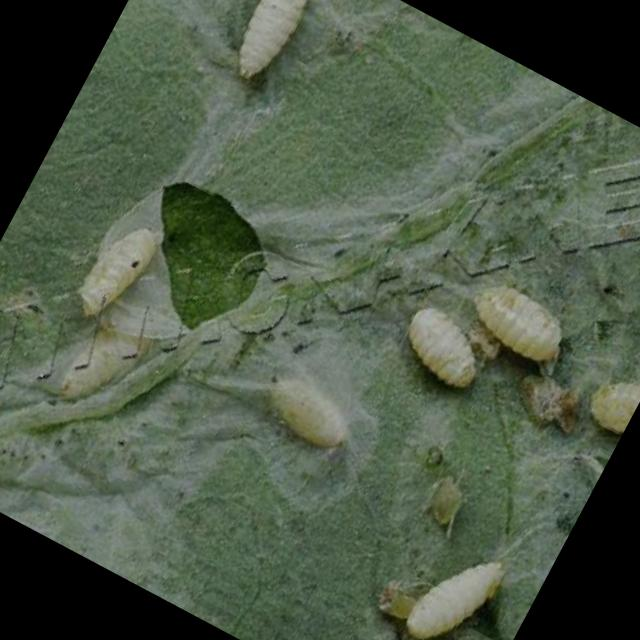whorl-maggot: (390, 517, 520, 640), (378, 291, 500, 406), (244, 354, 362, 466), (460, 270, 578, 369), (218, 0, 332, 96), (81, 226, 157, 321), (577, 354, 640, 437)
